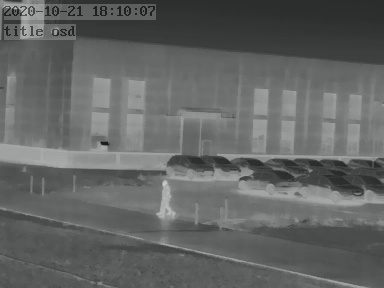person: (159, 176, 175, 219)
vehicle: (301, 171, 361, 203), (240, 168, 305, 193), (165, 152, 212, 179), (204, 153, 242, 177), (351, 175, 384, 202), (233, 155, 270, 171), (262, 156, 300, 171), (347, 156, 378, 170), (296, 156, 324, 169), (317, 157, 346, 169)
